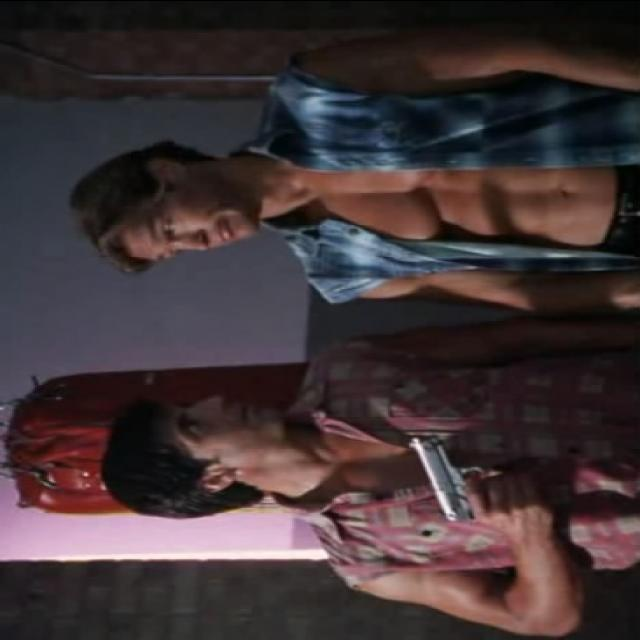weapons: (406, 419, 552, 544)
